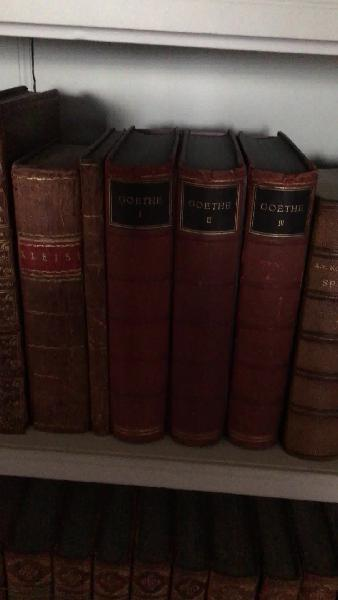Aa6-10: (73, 151, 109, 445)
Aa6-11_13: (103, 157, 309, 455)
Aa6-9: (7, 155, 91, 439)
